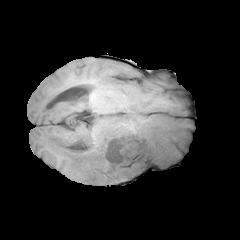glioma: (49, 112, 184, 184)
